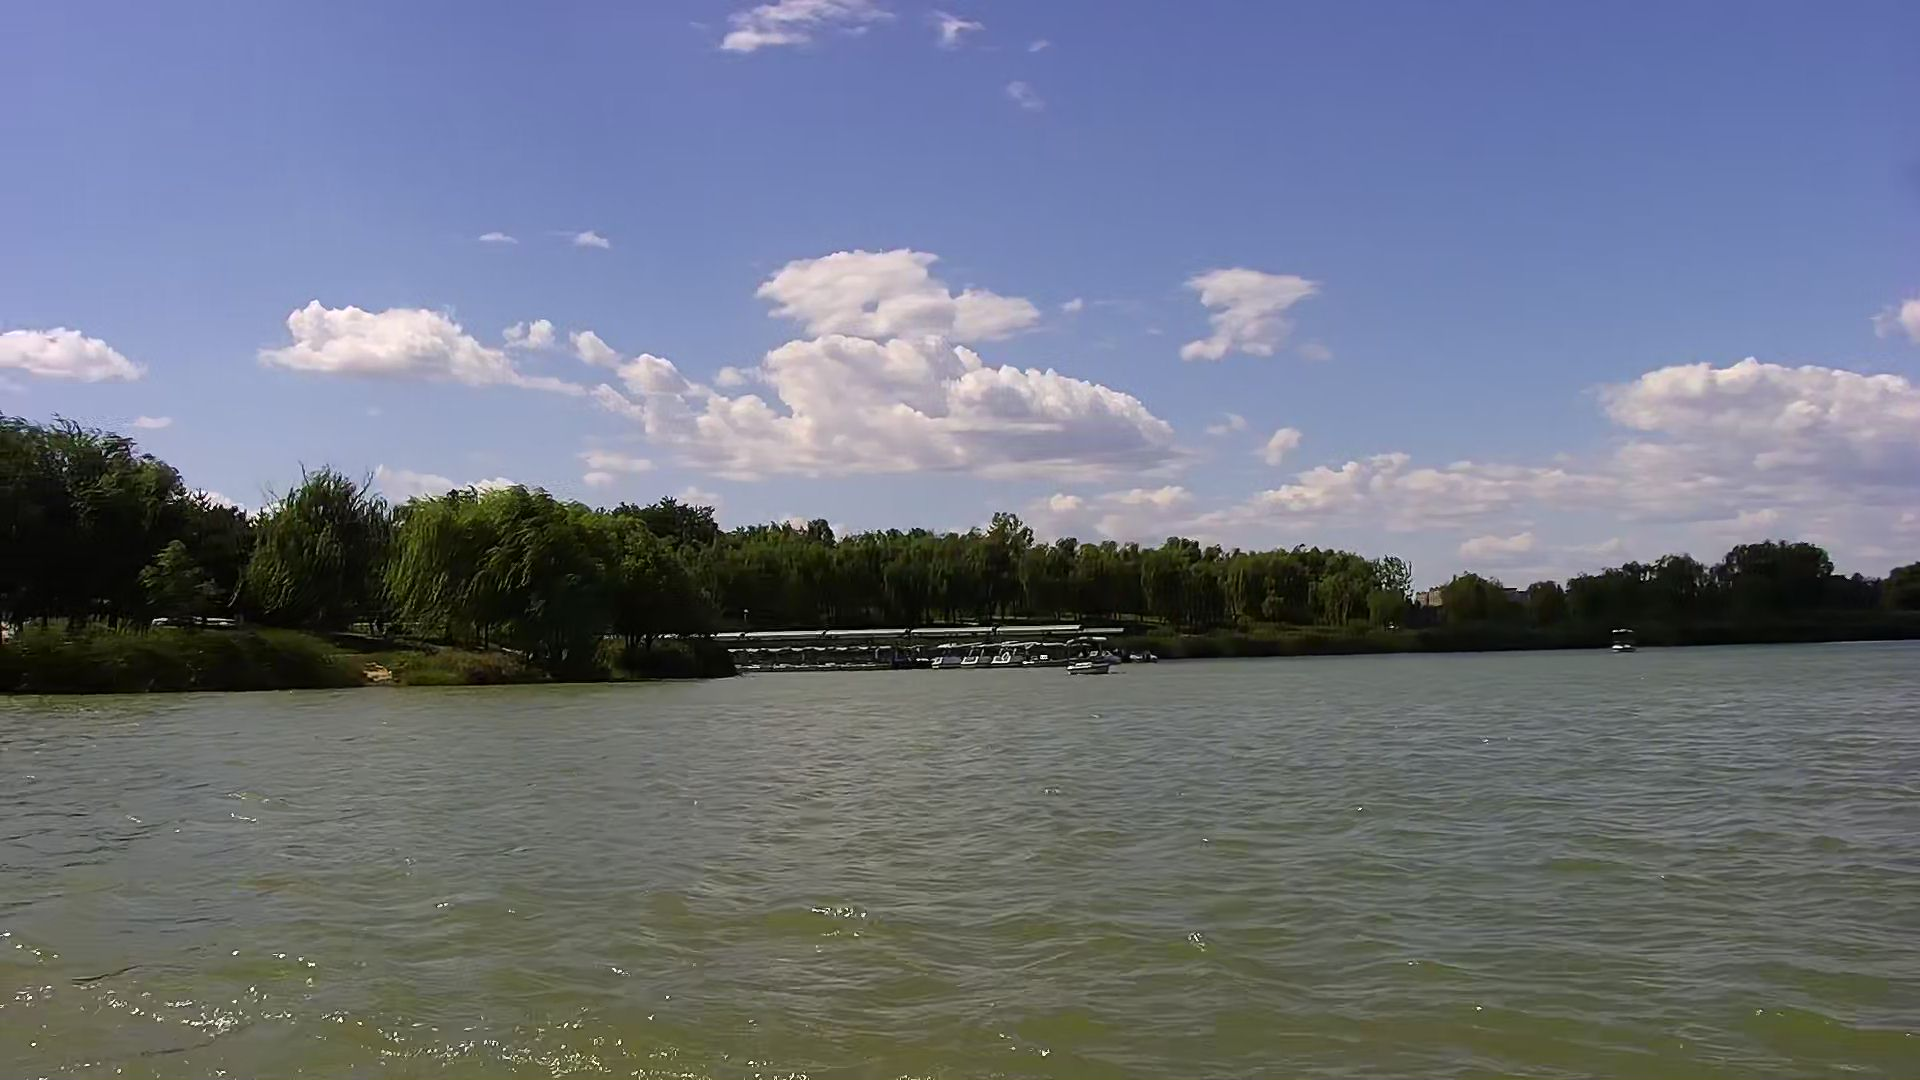boat: (1031, 640, 1060, 669), (996, 642, 1023, 670), (934, 642, 959, 670), (963, 640, 988, 667), (1611, 626, 1635, 651), (1064, 665, 1110, 674)
harbor: (737, 628, 1129, 671)
